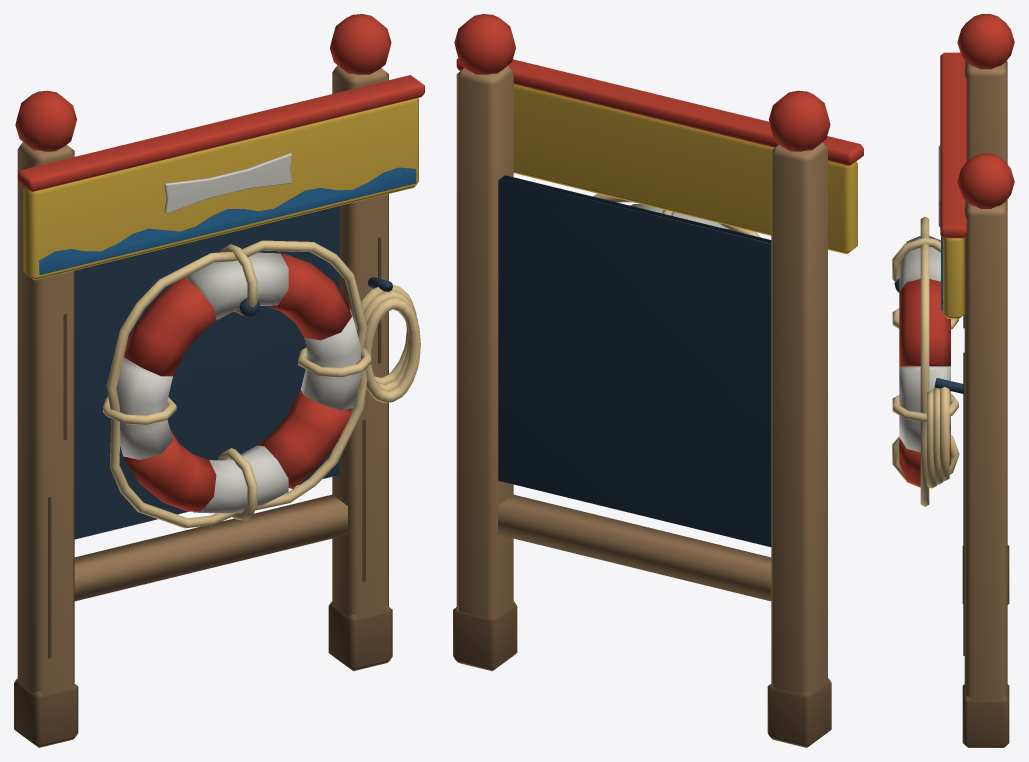
The model's file is rescue-buoy-stand.glb.
3 renders of one model, left to right at view 1: azimuth 30°, elevation 25°; view 2: azimuth 150°, elevation 25°; view 3: azimuth 270°, elevation 25°, orthographic. The views are drawn at different scales.
Parts seen in each view (by area): view 1: rescue-buoy-stand; view 2: rescue-buoy-stand; view 3: rescue-buoy-stand.
Boxes of the visible parts, left/top/right/bottom form: rescue-buoy-stand: left=14, top=14, right=424, bottom=747; rescue-buoy-stand: left=453, top=14, right=863, bottom=747; rescue-buoy-stand: left=892, top=14, right=1014, bottom=747.
Bounding box in the file's own units: 1.16 × 1.8 × 0.3416.
